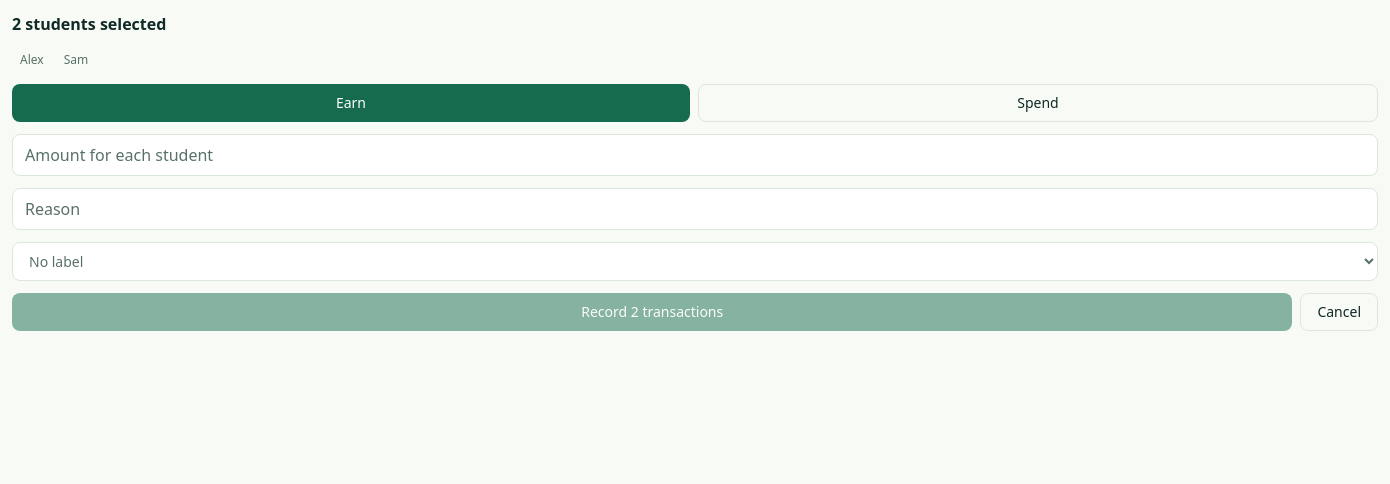
Scenario: GroupTransactionComposer › surfaces a network error without crashing, and lets the user retry
Type "2" into the field with placeholder "Amount for each student" at (695, 155), box [12,134,1378,176]
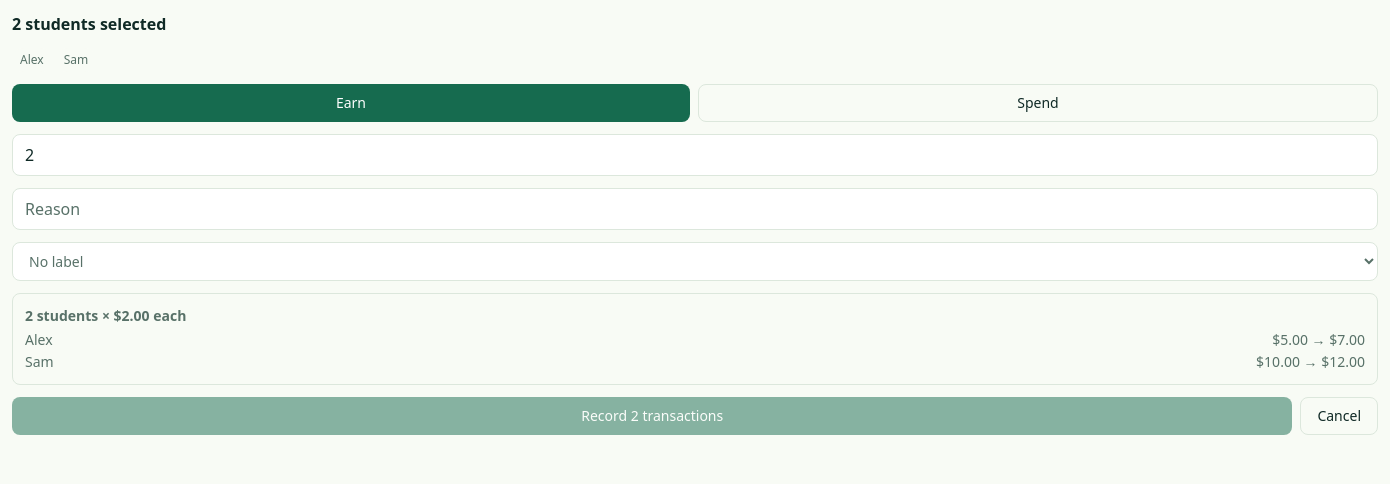
Type "Field trip" into the field with placeholder "Reason" at (695, 209), box [12,188,1378,230]
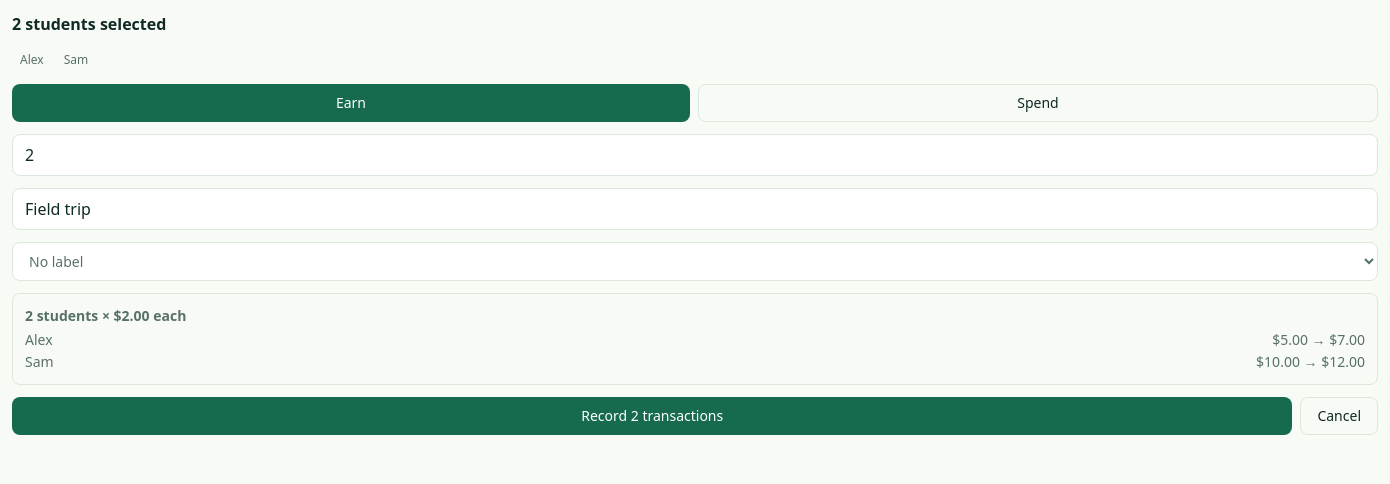
Click the button "Record 2 transactions" at (652, 416), box [12,397,1292,435]
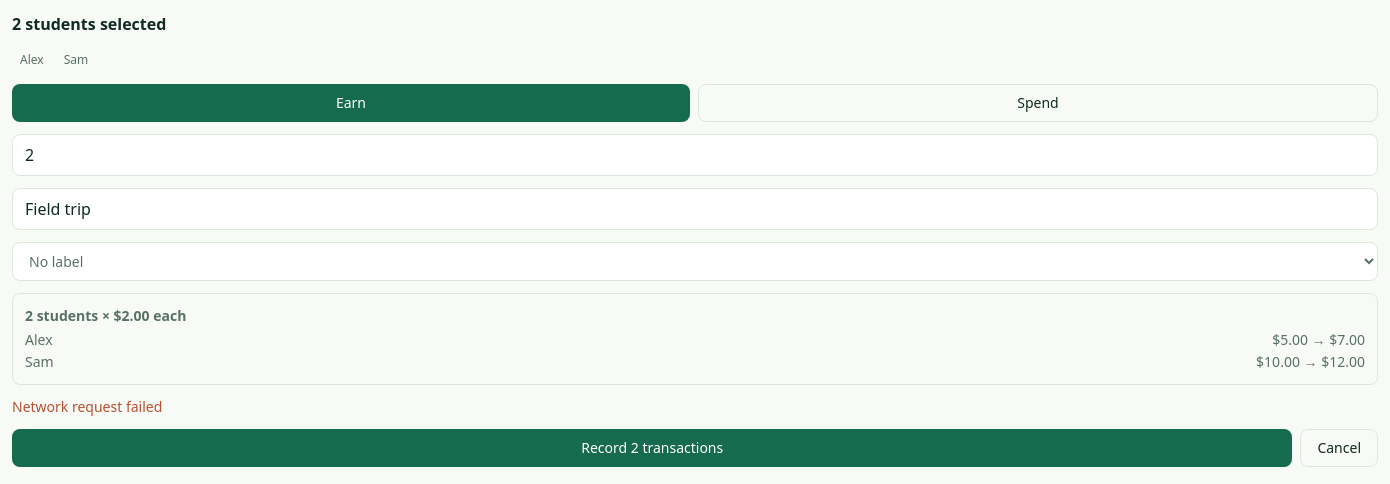
Expected: the button "Record 2 transactions" is shown, [12,429,1292,467]
Expected: the text "Network request failed" is shown, [12,397,162,416]
